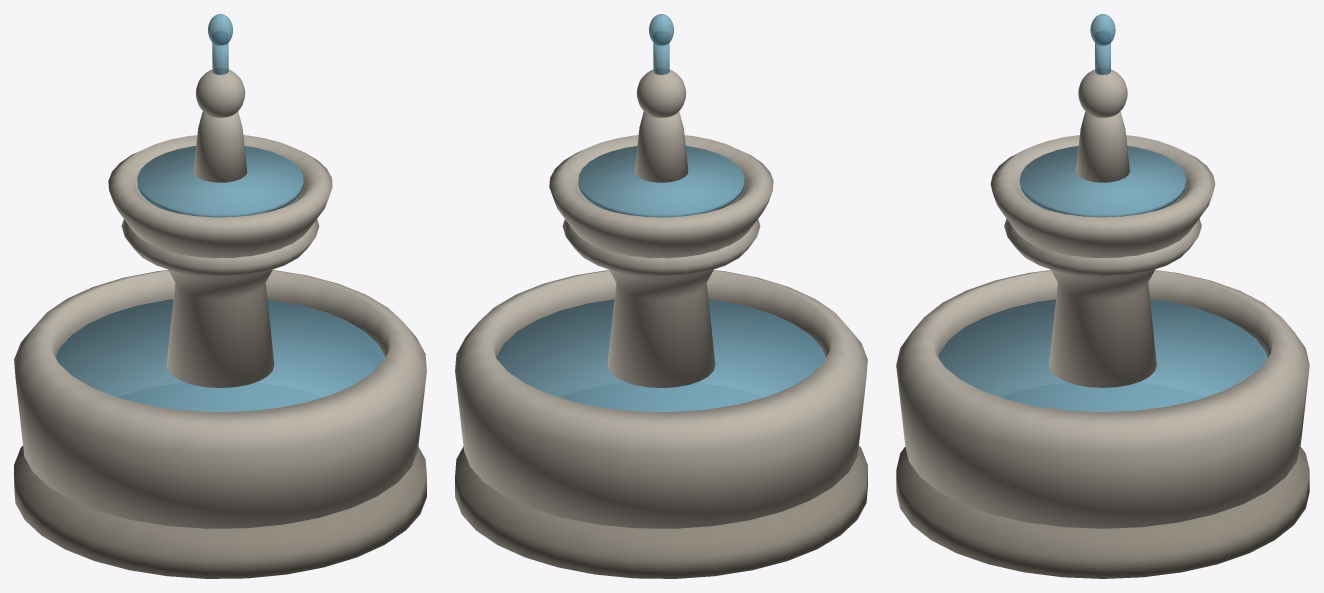
File: fountain.glb
3 views of the same model, side by side, from view 1: azimuth 30°, elevation 25°; view 2: azimuth 150°, elevation 25°; view 3: azimuth 270°, elevation 25° (orthographic).
Parts seen in each view (by area): view 1: fountain; view 2: fountain; view 3: fountain.
Boxes of the visible parts, x1,y1,x2,y2 form: fountain: (14,14,426,578); fountain: (455,14,867,578); fountain: (896,14,1309,578).
Size of the model in its own units: 0.92 by 1.17 by 0.92.
